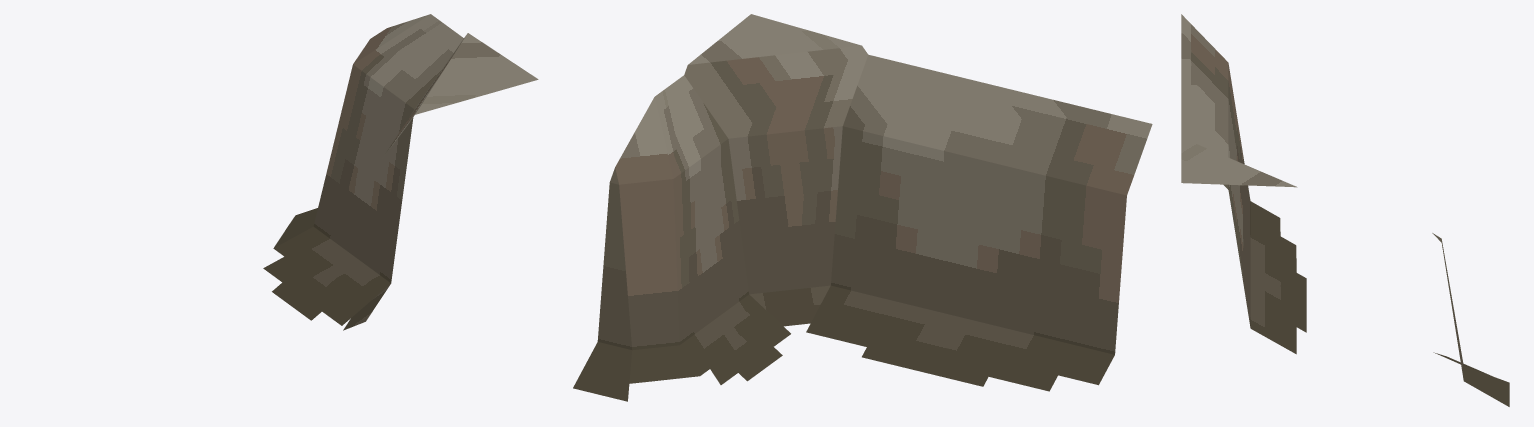
3 views of the same model, side by side, from view 1: azimuth 30°, elevation 25°; view 2: azimuth 150°, elevation 25°; view 3: azimuth 270°, elevation 25° (orthographic). The views are drawn at different scales.
Size of the model in its own units: 1 by 0.5949 by 0.793.
1 material, 1 textured.
